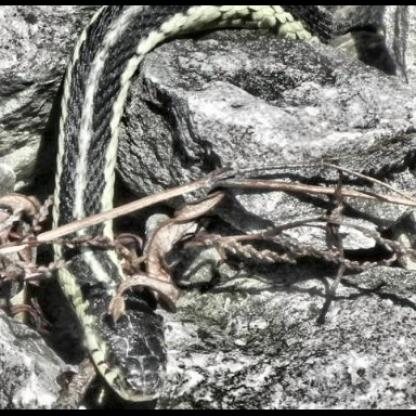Snake: (46, 3, 174, 405)
